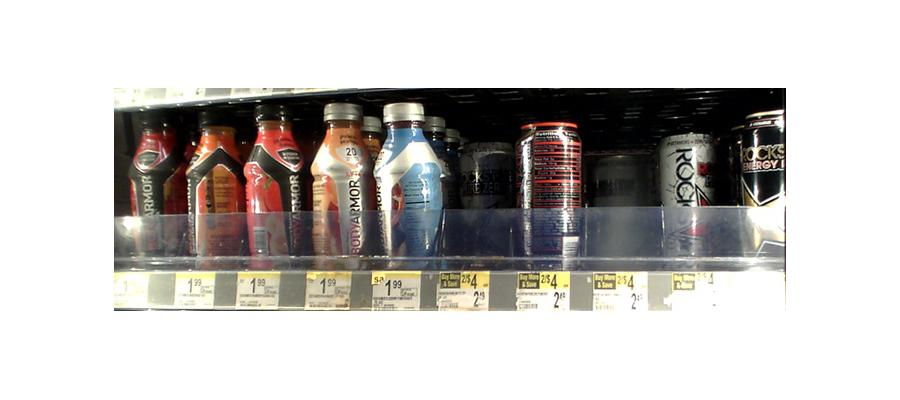bottle: (373, 99, 445, 275), (244, 98, 307, 271), (308, 98, 370, 267), (517, 120, 586, 269), (186, 104, 242, 267), (126, 101, 181, 260), (738, 106, 790, 267), (660, 134, 722, 263), (592, 147, 648, 267), (459, 139, 512, 262)
